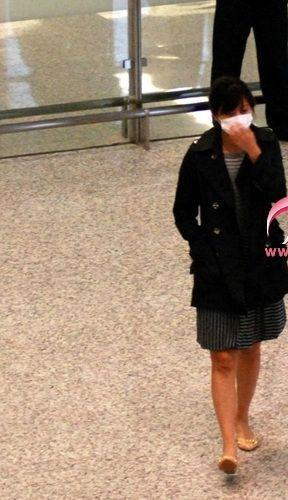OK: (212, 101, 251, 140)
